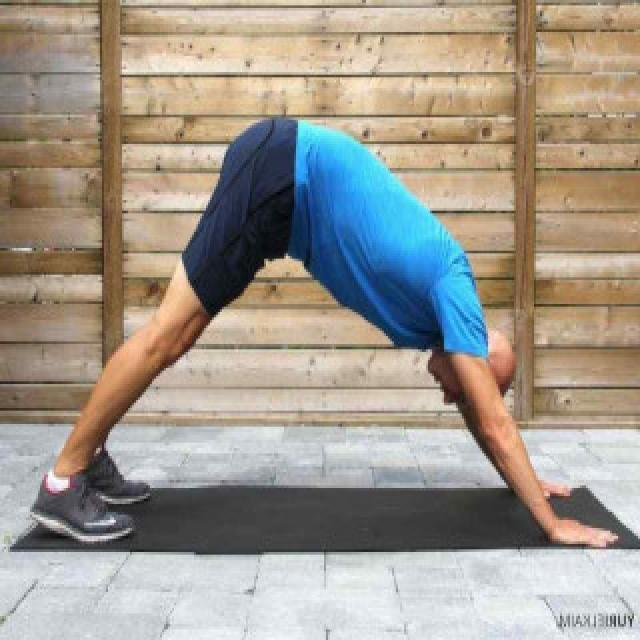yoga-pose downward: (25, 114, 616, 545)
